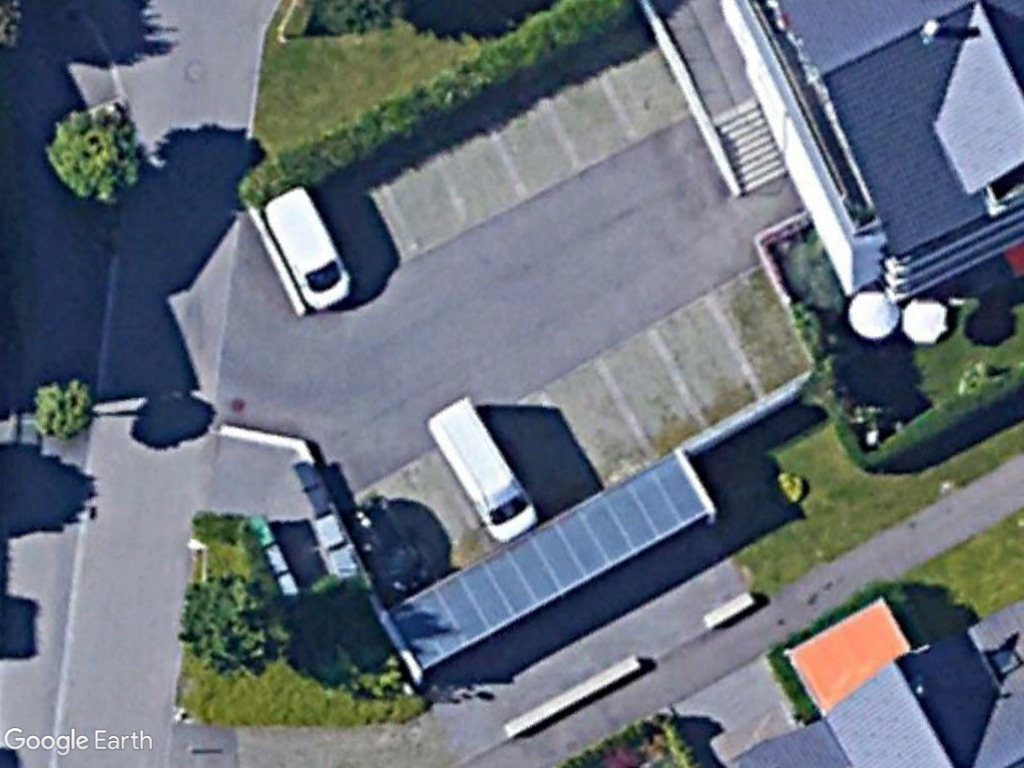van: (418, 392, 540, 548), (259, 188, 354, 313)
